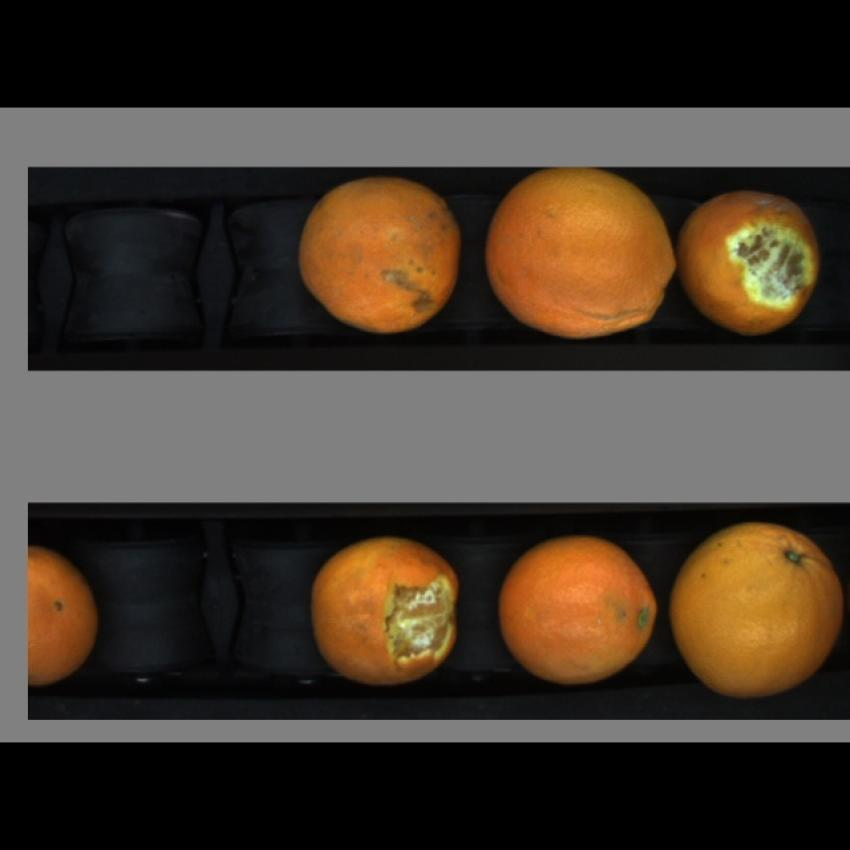Buen estado: (670, 524, 845, 705)
Mal estado: (486, 175, 674, 339), (298, 180, 467, 334), (496, 541, 662, 689), (310, 537, 468, 686), (676, 193, 816, 333), (30, 550, 99, 695)
